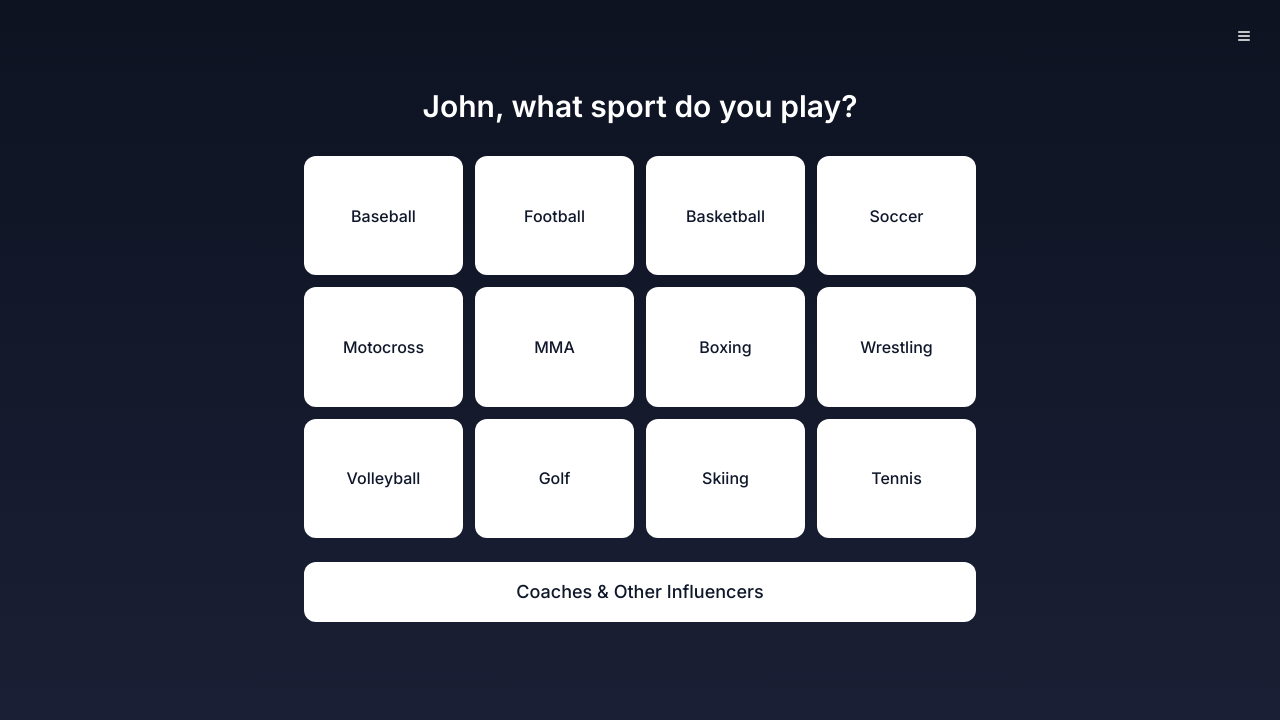
it: SportSelector › disables buttons after selection
Click the button "Basketball" at {"x": 726, "y": 216}, box left=646, top=156, right=805, bottom=275
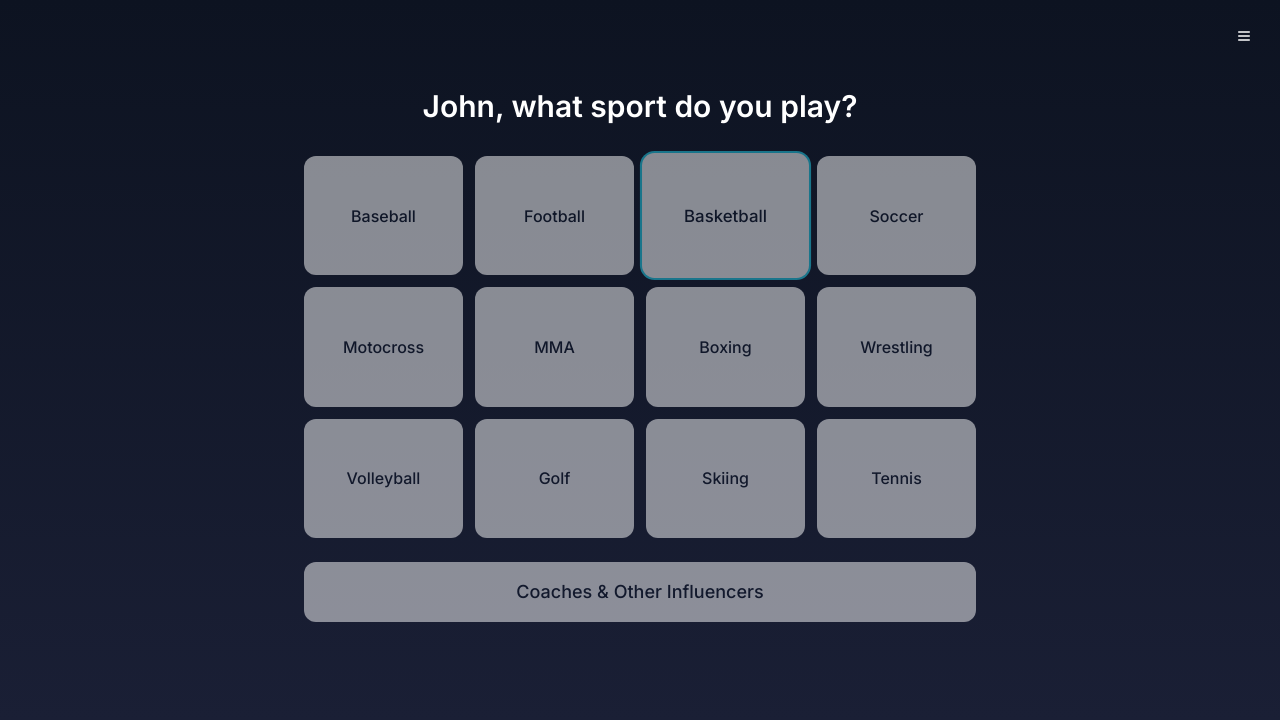
Check: the button "Football" is disabled, box left=475, top=156, right=634, bottom=275
